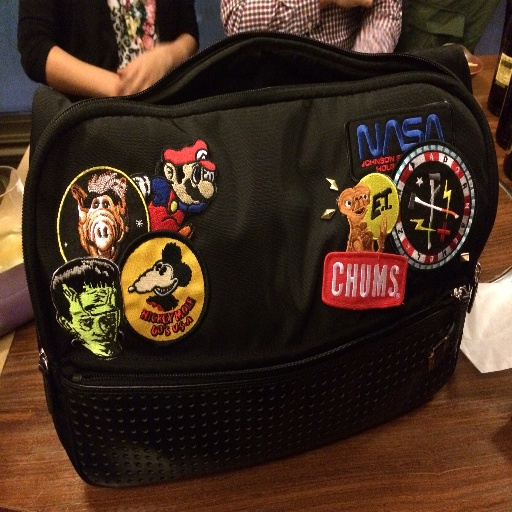hand: (115, 42, 175, 91), (334, 0, 371, 8)
